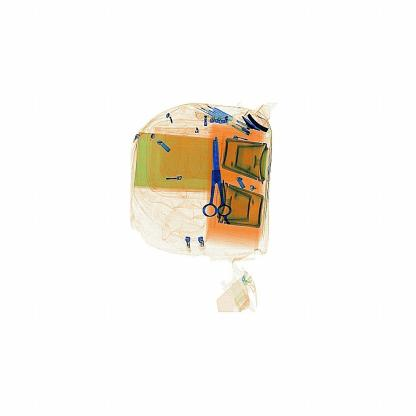gun: (201, 124, 241, 230)
